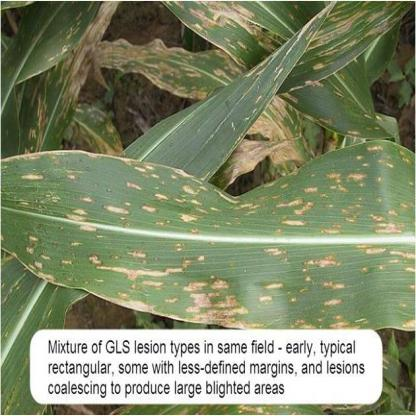corn gray leaf spot: (1, 141, 415, 330), (116, 13, 327, 205), (82, 4, 412, 119)
